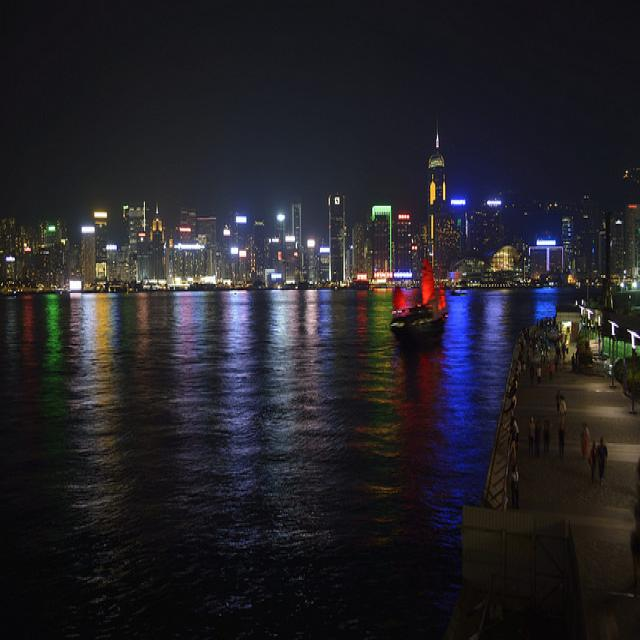Boat: (391, 271, 441, 367)
